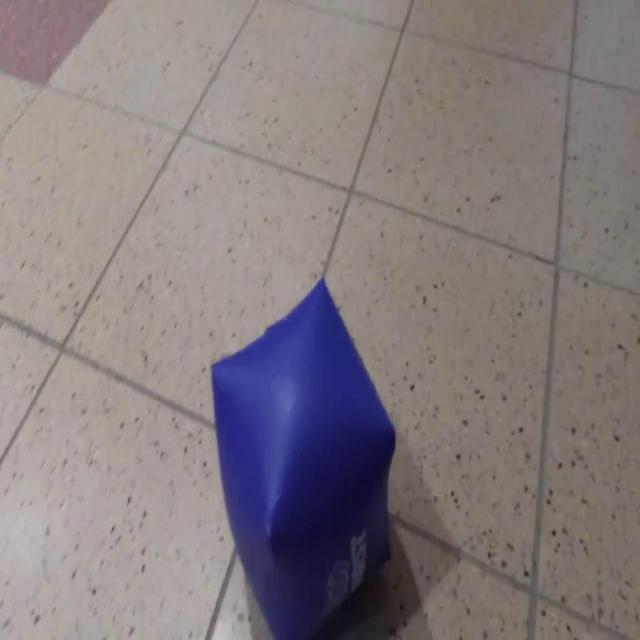frc_cube: (211, 276, 398, 640)
